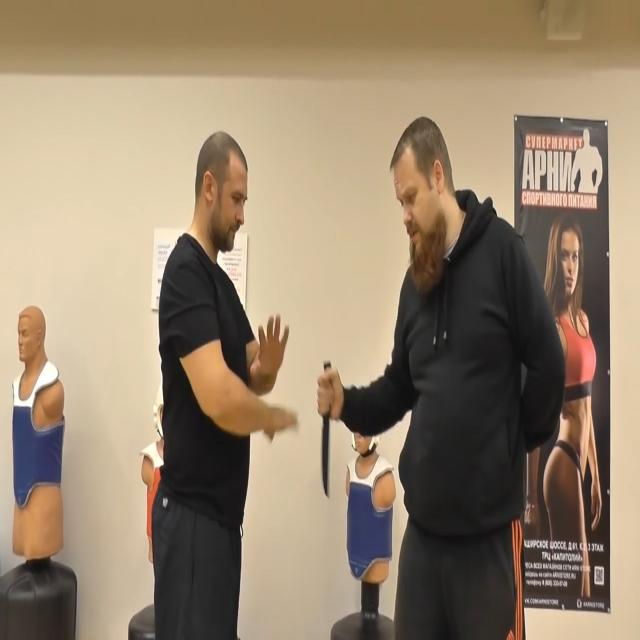knife: (321, 417, 333, 505)
